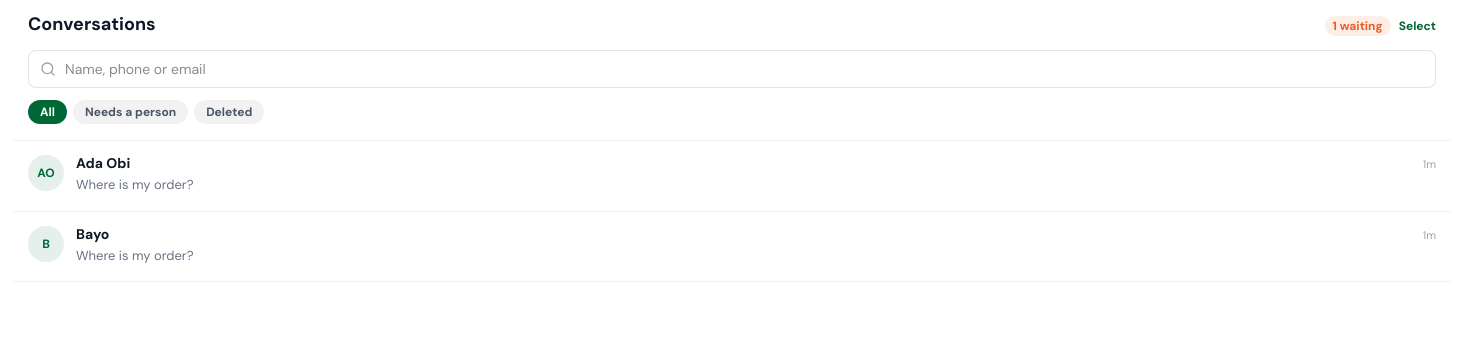
Scenario: ConversationRail › deleting › ticks chats and deletes them, after asking
Click the button "Select": (1417, 26) [1399,18,1436,34]
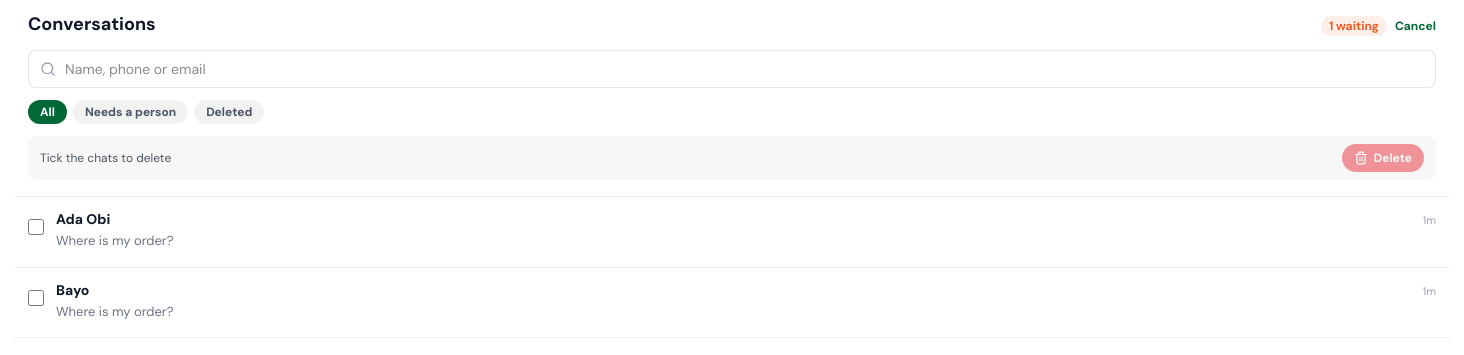
Click the checkbox named "Select Ada Obi": (83, 219) [12,197,1452,268]
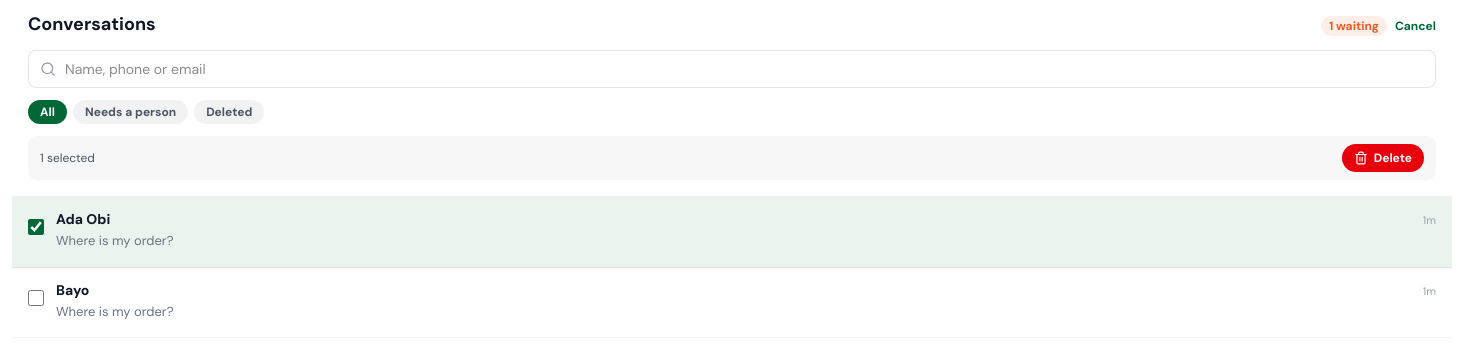
Click the checkbox named "Select Bayo": (73, 290) [12,268,1452,338]
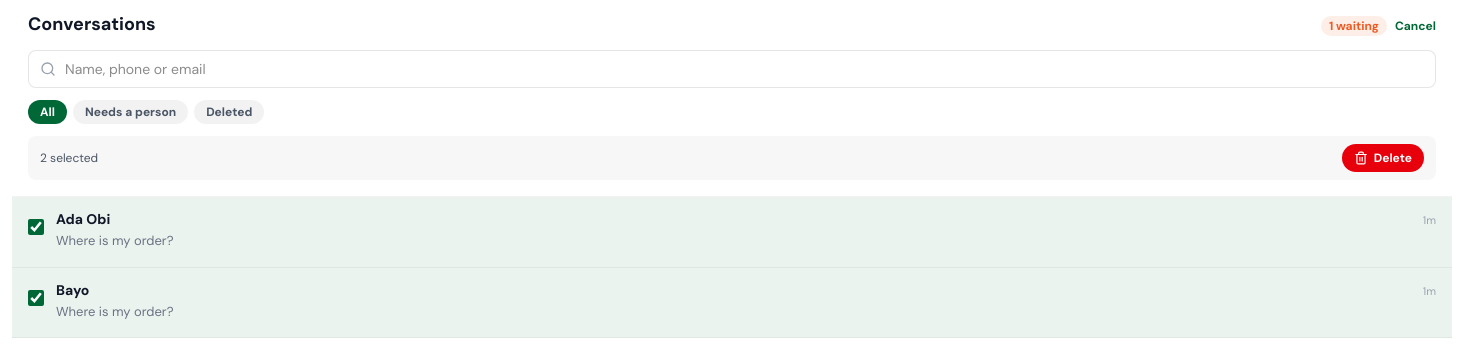
Expected: the text "2 selected" is shown, [40,150,98,166]
Click the button "Delete": (1383, 158) [1342,144,1424,172]
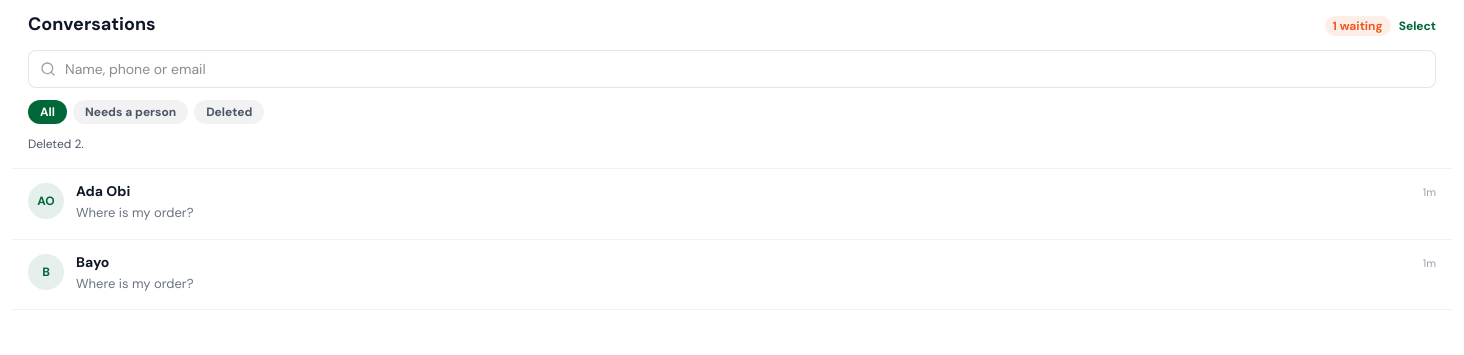
Expected: the message reads "Deleted 2.", [28,136,84,152]
